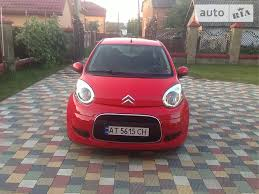car: (66, 38, 190, 154)
plate: (104, 125, 150, 137)
